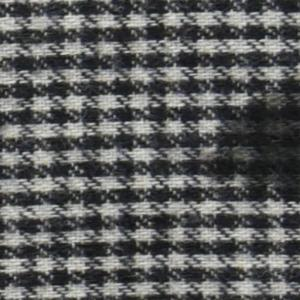Stain: (212, 72, 300, 209)
